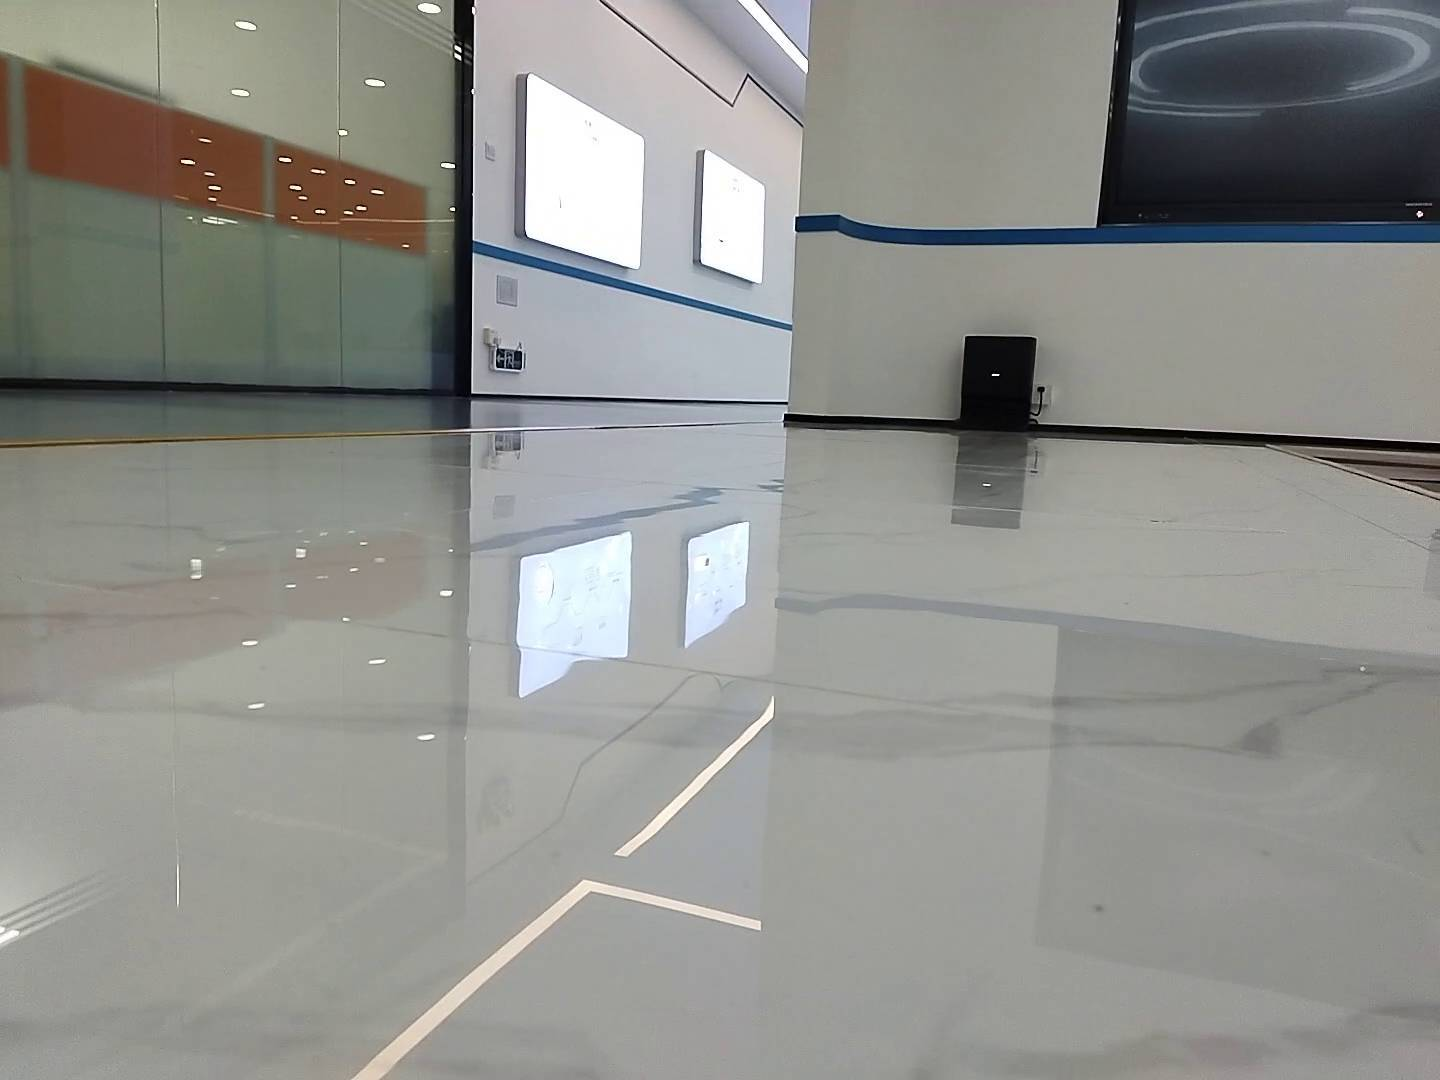dust collecting barrel: (951, 337, 1039, 436)
